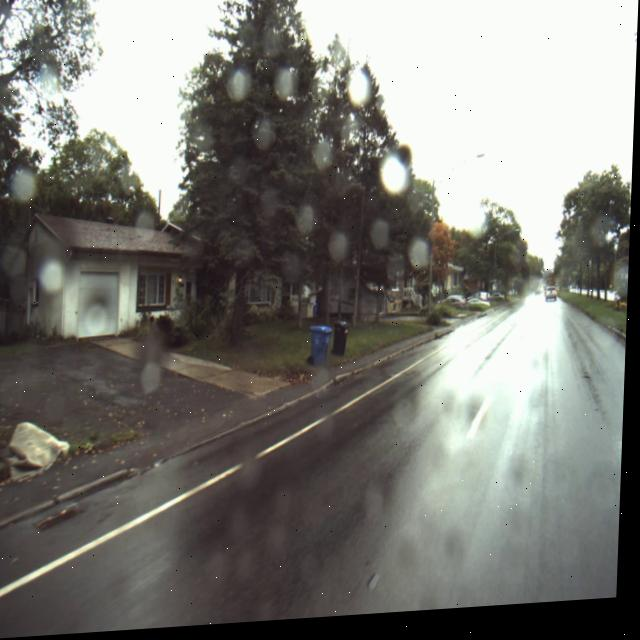car: (441, 301, 469, 317), (548, 293, 560, 311), (493, 299, 508, 309)
